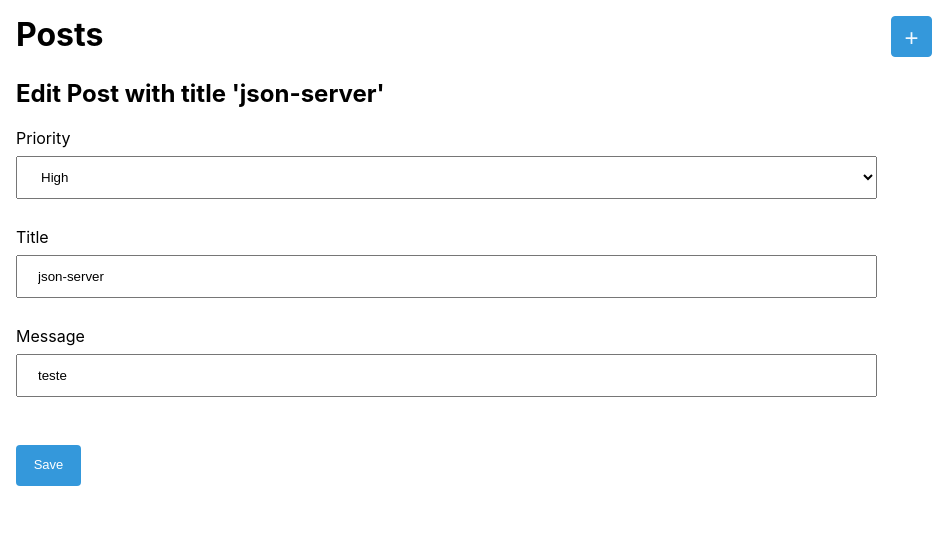
validation errors
This screenshot has width=949, height=535.
Expected: the field showing "teste" is shown, [16,354,877,397]
Expected: the element with test id "titleError" does not show "Field Required"
Clear the field showing "json-server": (446, 276) [16,255,877,298]
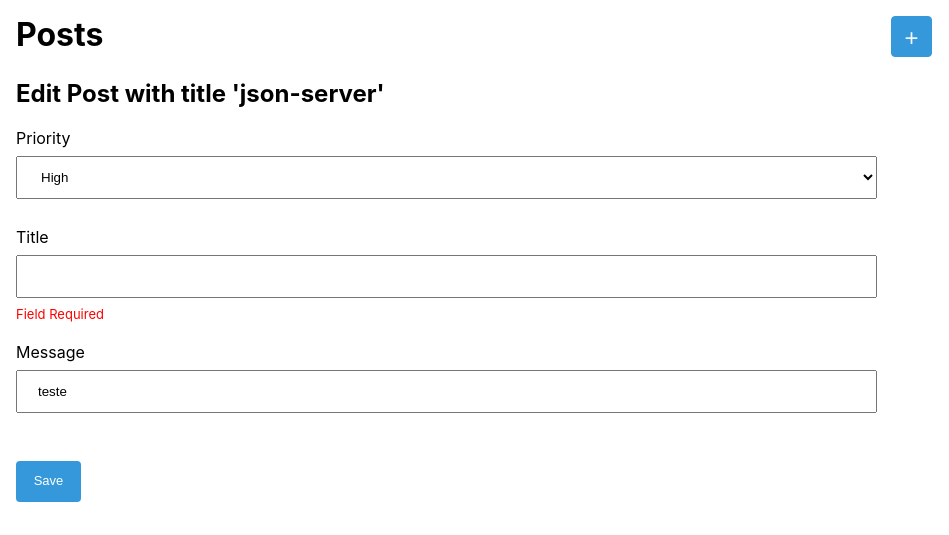
Clear the field showing "teste": (446, 391) [16,370,877,413]
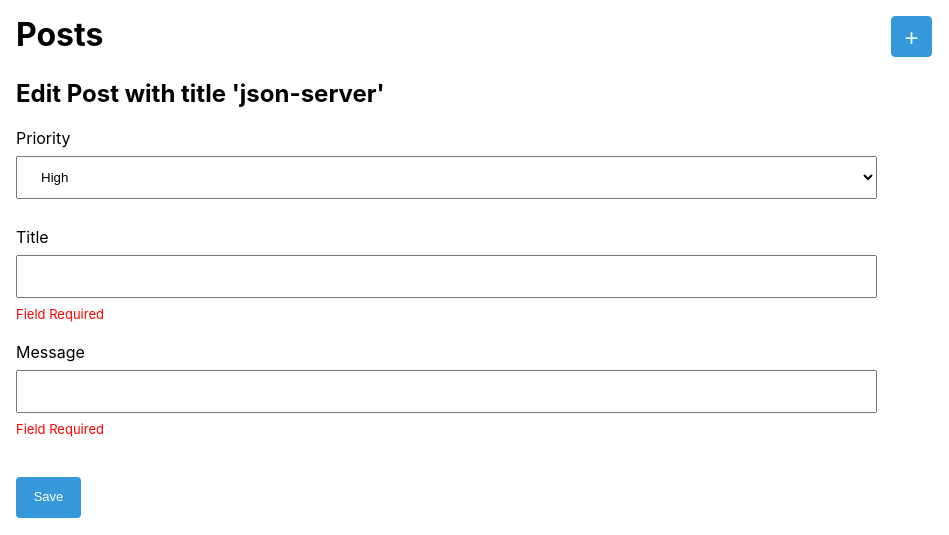
Result: the text with test id "titleError" reads "Field Required" at [16,306,104,322]
Result: the text with test id "messageError" reads "Field Required" at [16,421,104,437]
